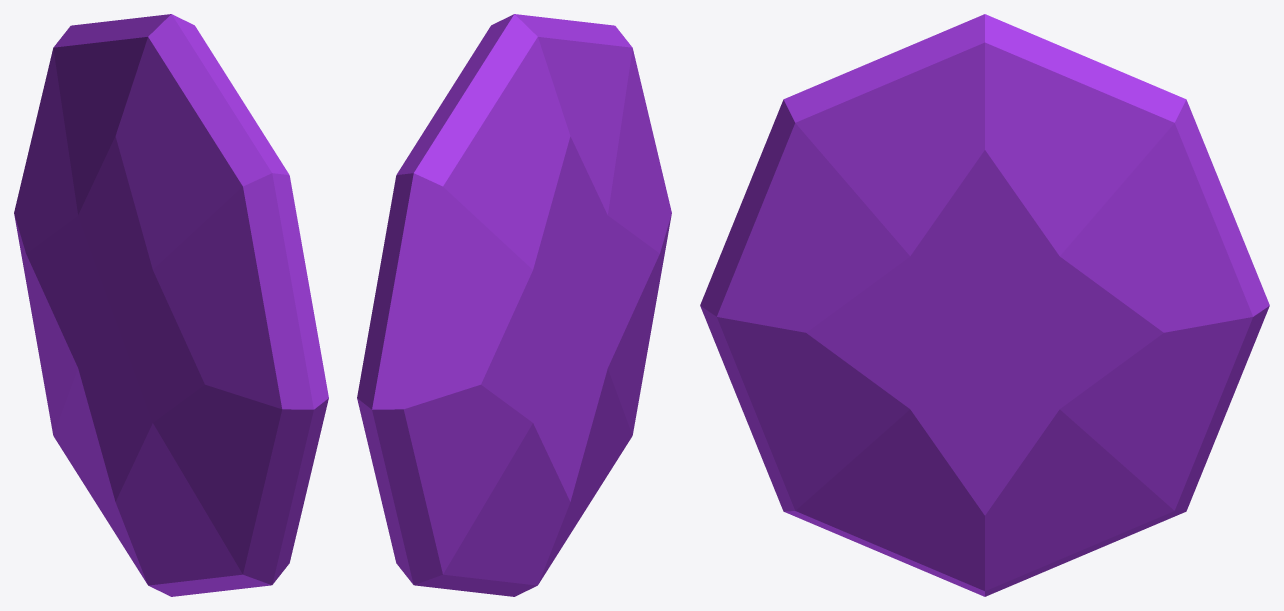
The model's file is gem base.fbx.
3 views of the same model, side by side, from view 1: azimuth 30°, elevation 25°; view 2: azimuth 150°, elevation 25°; view 3: azimuth 270°, elevation 25° (orthographic).
Parts seen in each view (by area): view 1: Torus.003; view 2: Torus.003; view 3: Torus.003.
Part boxes in pixels (x1,y1,x2,y2): Torus.003: [14, 14, 328, 596]; Torus.003: [357, 14, 671, 596]; Torus.003: [700, 14, 1269, 596].
Size of the model in its own units: 48.86 by 243 by 215.
